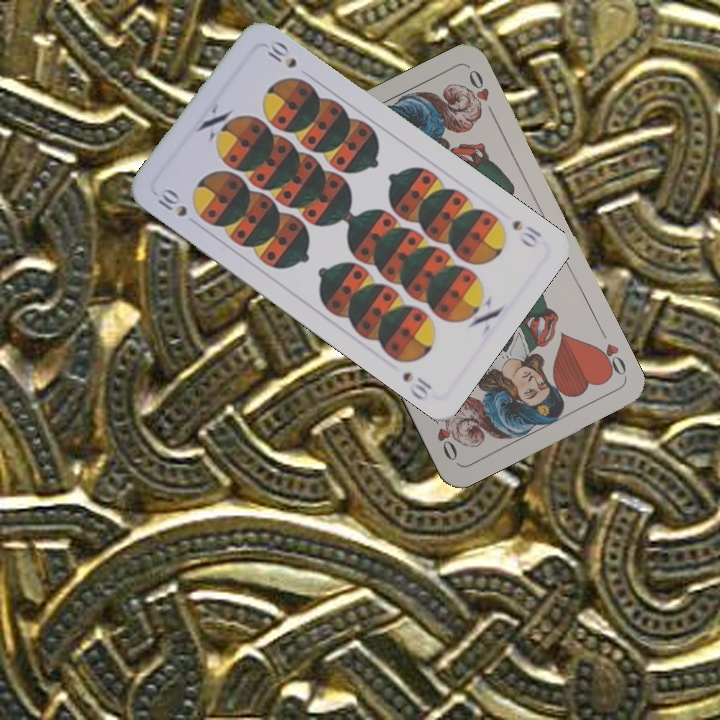HO: (590, 339, 629, 381)
S10: (153, 183, 190, 220), (508, 216, 544, 251)
